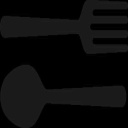fork: (1, 4, 128, 54)
